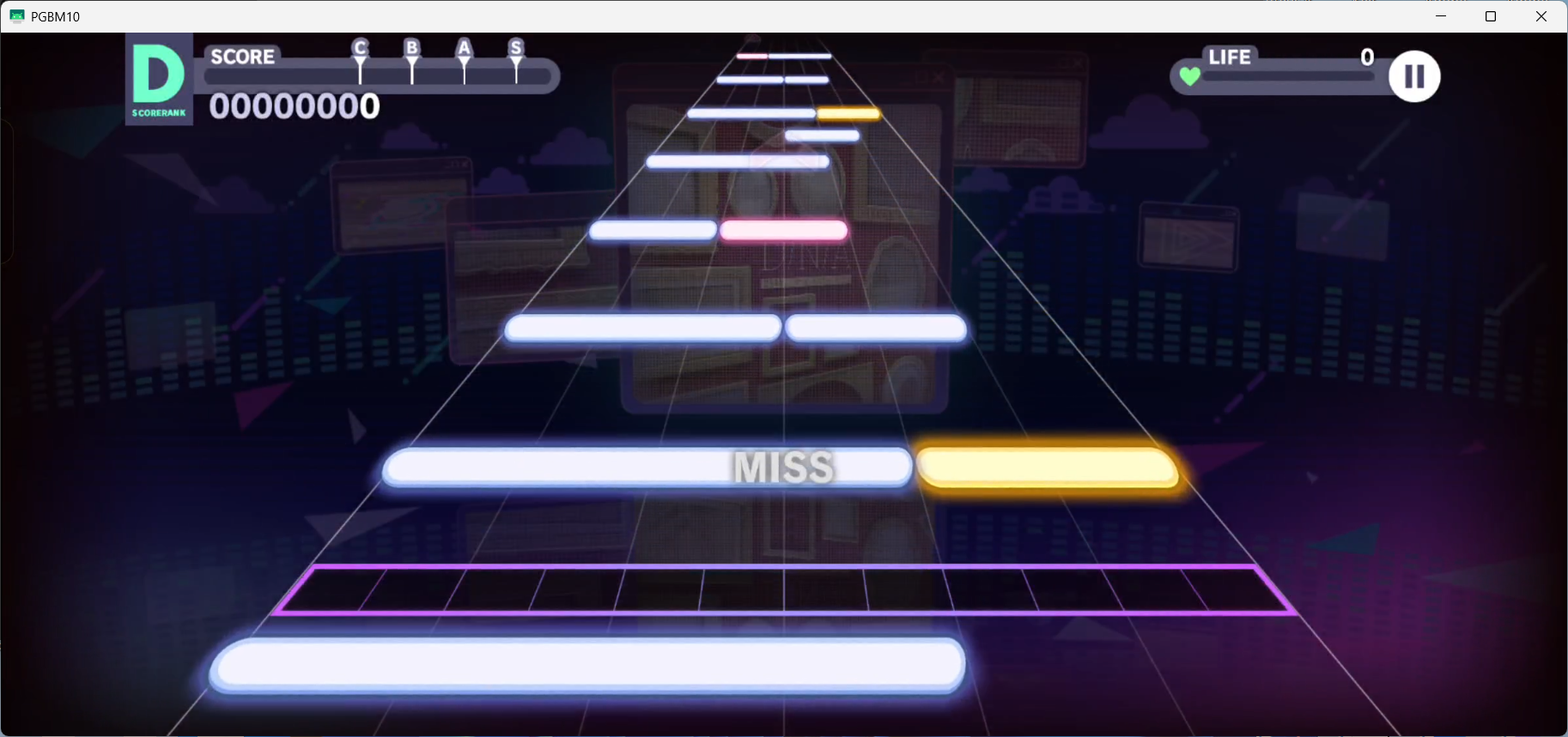tap: (206, 637, 967, 692), (380, 448, 912, 490), (917, 446, 1180, 488), (505, 314, 783, 343), (785, 314, 967, 342), (589, 220, 719, 241), (720, 220, 848, 239), (647, 155, 829, 168), (687, 108, 816, 118), (784, 130, 860, 142), (817, 108, 880, 118), (716, 76, 783, 83), (768, 53, 831, 59), (784, 76, 829, 83), (736, 53, 768, 59)
